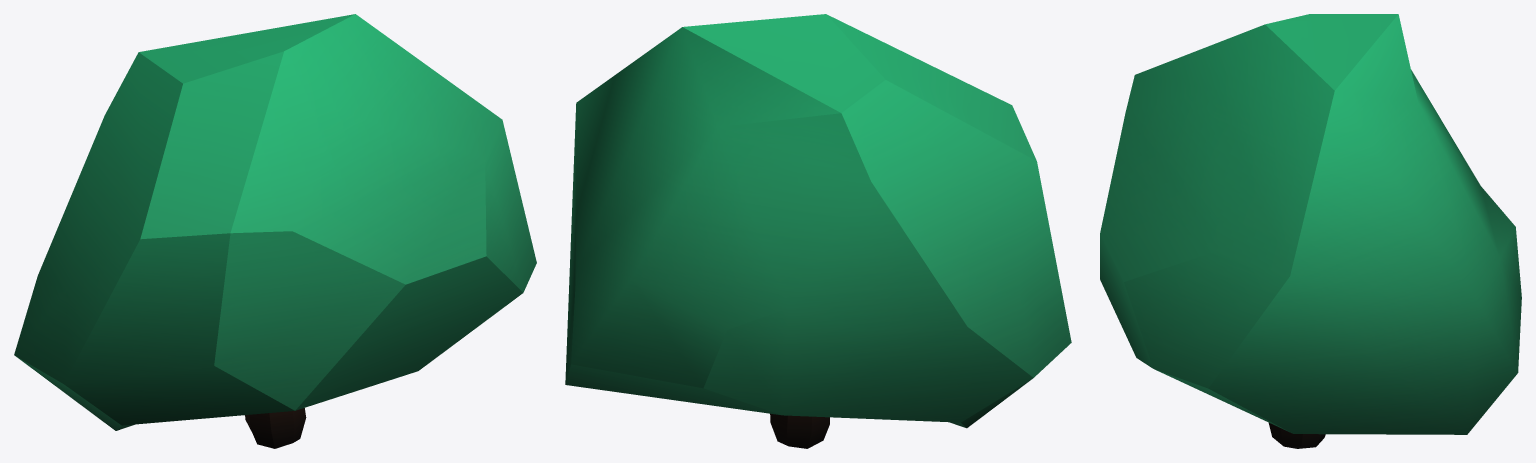
The model's file is bush3.fbx.
3 renders of one model, left to right at view 1: azimuth 30°, elevation 25°; view 2: azimuth 150°, elevation 25°; view 3: azimuth 270°, elevation 25°, orthographic. The views are drawn at different scales.
Visible parts, largest first — view 1: bush3; view 2: bush3; view 3: bush3.
Part boxes in pixels (x1,y1,x2,y2): bush3: (14,14,536,448); bush3: (565,14,1071,448); bush3: (1100,14,1521,448).
Bounding box in the file's own units: 284 × 238 × 217.
